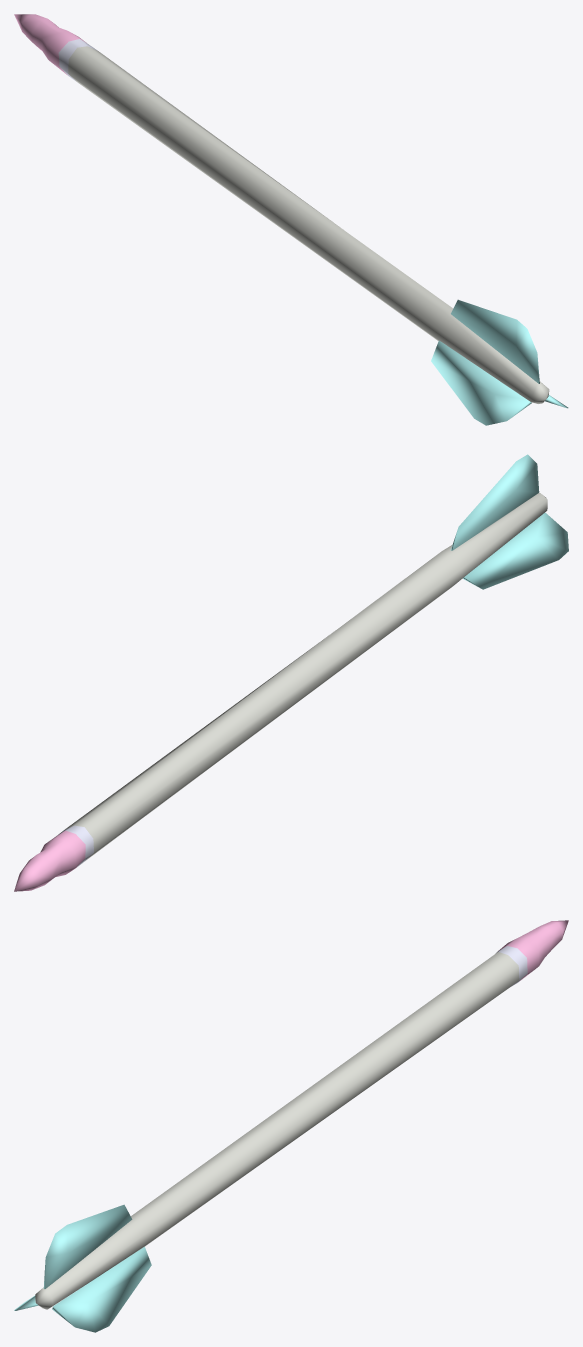
File: crossbow_bolt.fbx
3 views of the same model, one above another, from view 1: azimuth 30°, elevation 25°; view 2: azimuth 150°, elevation 25°; view 3: azimuth 330°, elevation 25° (orthographic).
Parts seen in each view (by area): view 1: w_crossbow_bolt; view 2: w_crossbow_bolt; view 3: w_crossbow_bolt.
Boxes of the visible parts, x1,y1,x2,y2 form: w_crossbow_bolt: [14, 14, 568, 425]; w_crossbow_bolt: [14, 454, 568, 891]; w_crossbow_bolt: [14, 920, 568, 1332].
Bounding box in the file's own units: 133 × 139 × 1457.
